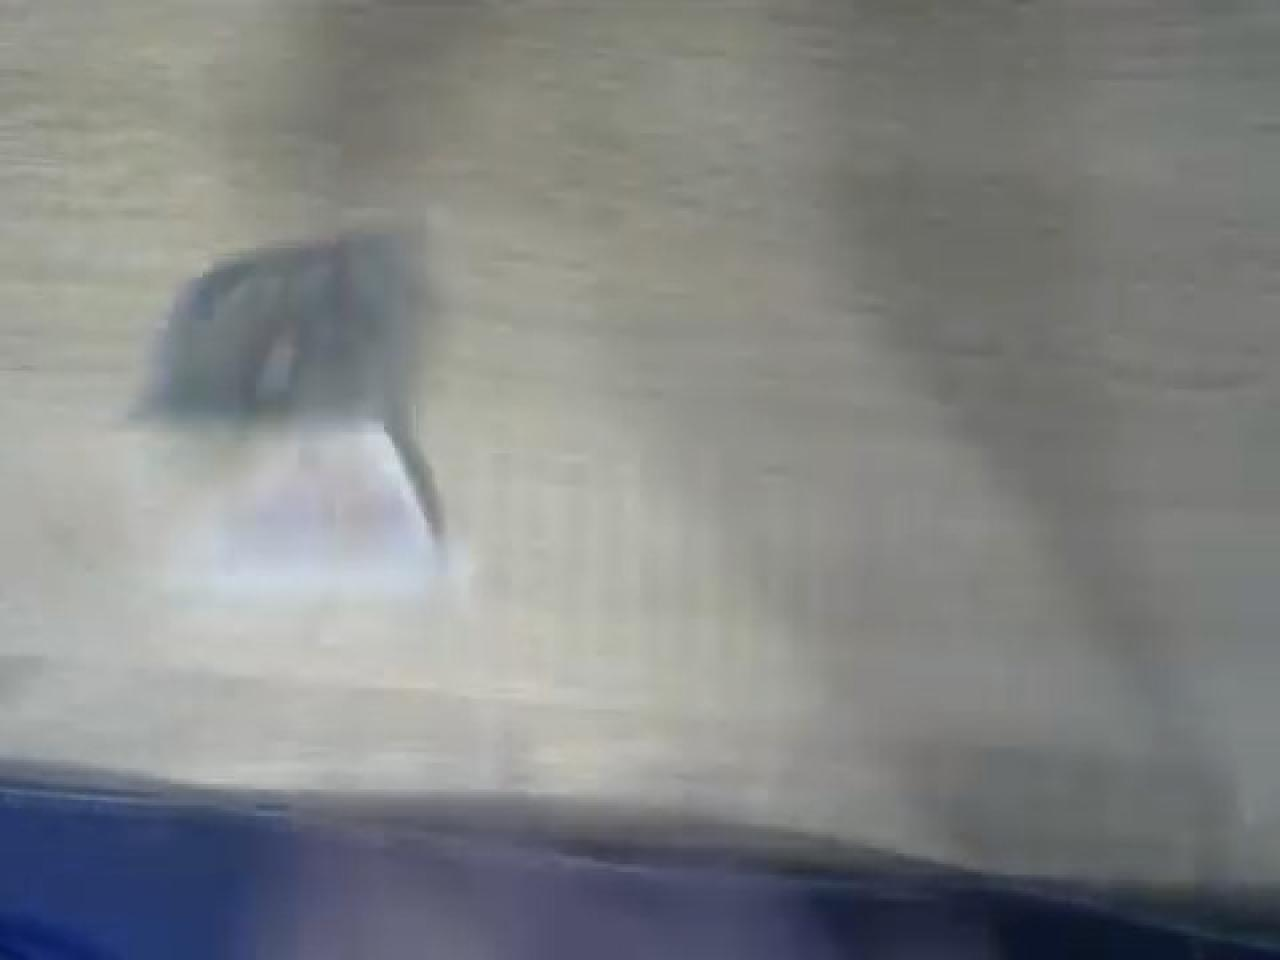10leva: (118, 232, 454, 613)
